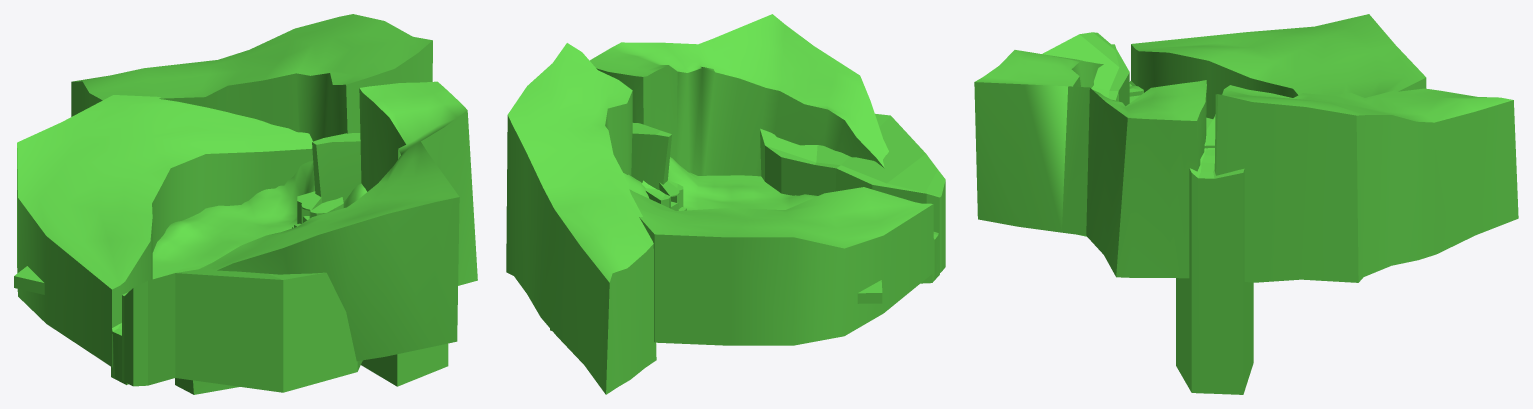
File: Zone1Final.FBX
3 views of the same model, side by side, from view 1: azimuth 30°, elevation 25°; view 2: azimuth 150°, elevation 25°; view 3: azimuth 270°, elevation 25° (orthographic). The views are drawn at different scales.
Parts seen in each view (by area): view 1: Plane001, New_Game_Object__1__1, New_Game_Object_10, New_Game_Object_11, Box001, New_Game_Object_7, New_Game_Object, New_Game_Object_5; view 2: New_Game_Object_11, Plane001, New_Game_Object__1__1, New_Game_Object_10, Box001, New_Game_Object_7; view 3: New_Game_Object_11, New_Game_Object__1__1, Plane001, New_Game_Object, New_Game_Object_10.
Part boxes in pixels (x1,y1,x2,y2): Plane001: [17, 95, 313, 366]; New_Game_Object__1__1: [175, 81, 477, 394]; New_Game_Object_10: [122, 264, 362, 392]; New_Game_Object_11: [71, 14, 432, 141]; Box001: [14, 161, 366, 294]; New_Game_Object_7: [312, 133, 361, 202]; New_Game_Object: [361, 343, 448, 386]; New_Game_Object_5: [111, 323, 128, 384]; New_Game_Object_11: [506, 43, 656, 394]; Plane001: [629, 187, 933, 345]; New_Game_Object__1__1: [589, 14, 888, 176]; New_Game_Object_10: [760, 113, 945, 273]; Box001: [623, 157, 882, 303]; New_Game_Object_7: [631, 123, 671, 189]; New_Game_Object_11: [1214, 85, 1518, 282]; New_Game_Object__1__1: [974, 50, 1206, 278]; Plane001: [1131, 14, 1426, 118]; New_Game_Object: [1176, 148, 1253, 394]; New_Game_Object_10: [1042, 32, 1129, 106].
Size of the model in its own units: 32889 by 25268 by 41802.
